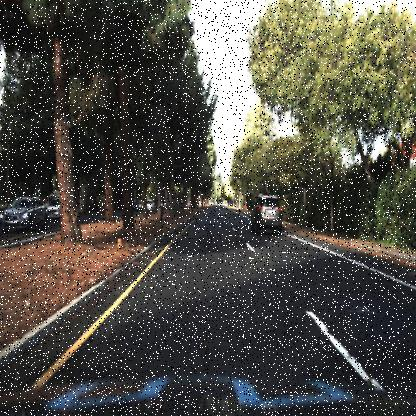car: (0, 196, 50, 234), (250, 190, 282, 230)
